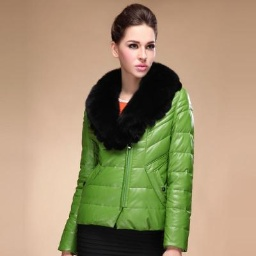face: (108, 2, 170, 79)
